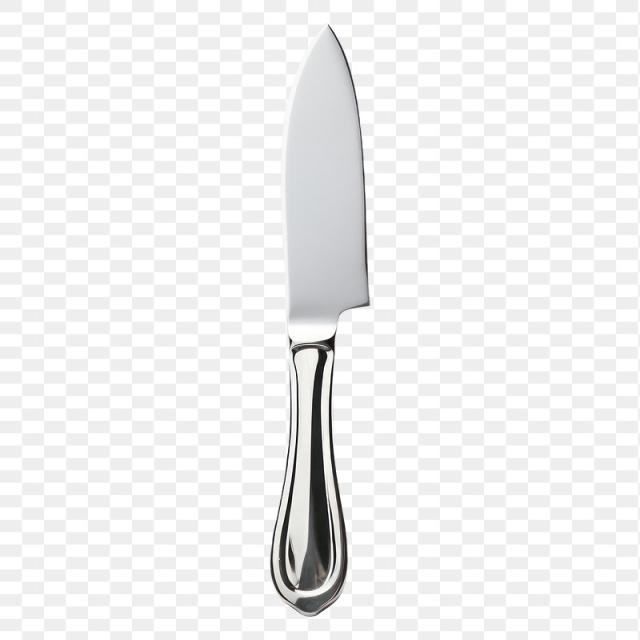Knife: (270, 23, 370, 616)
